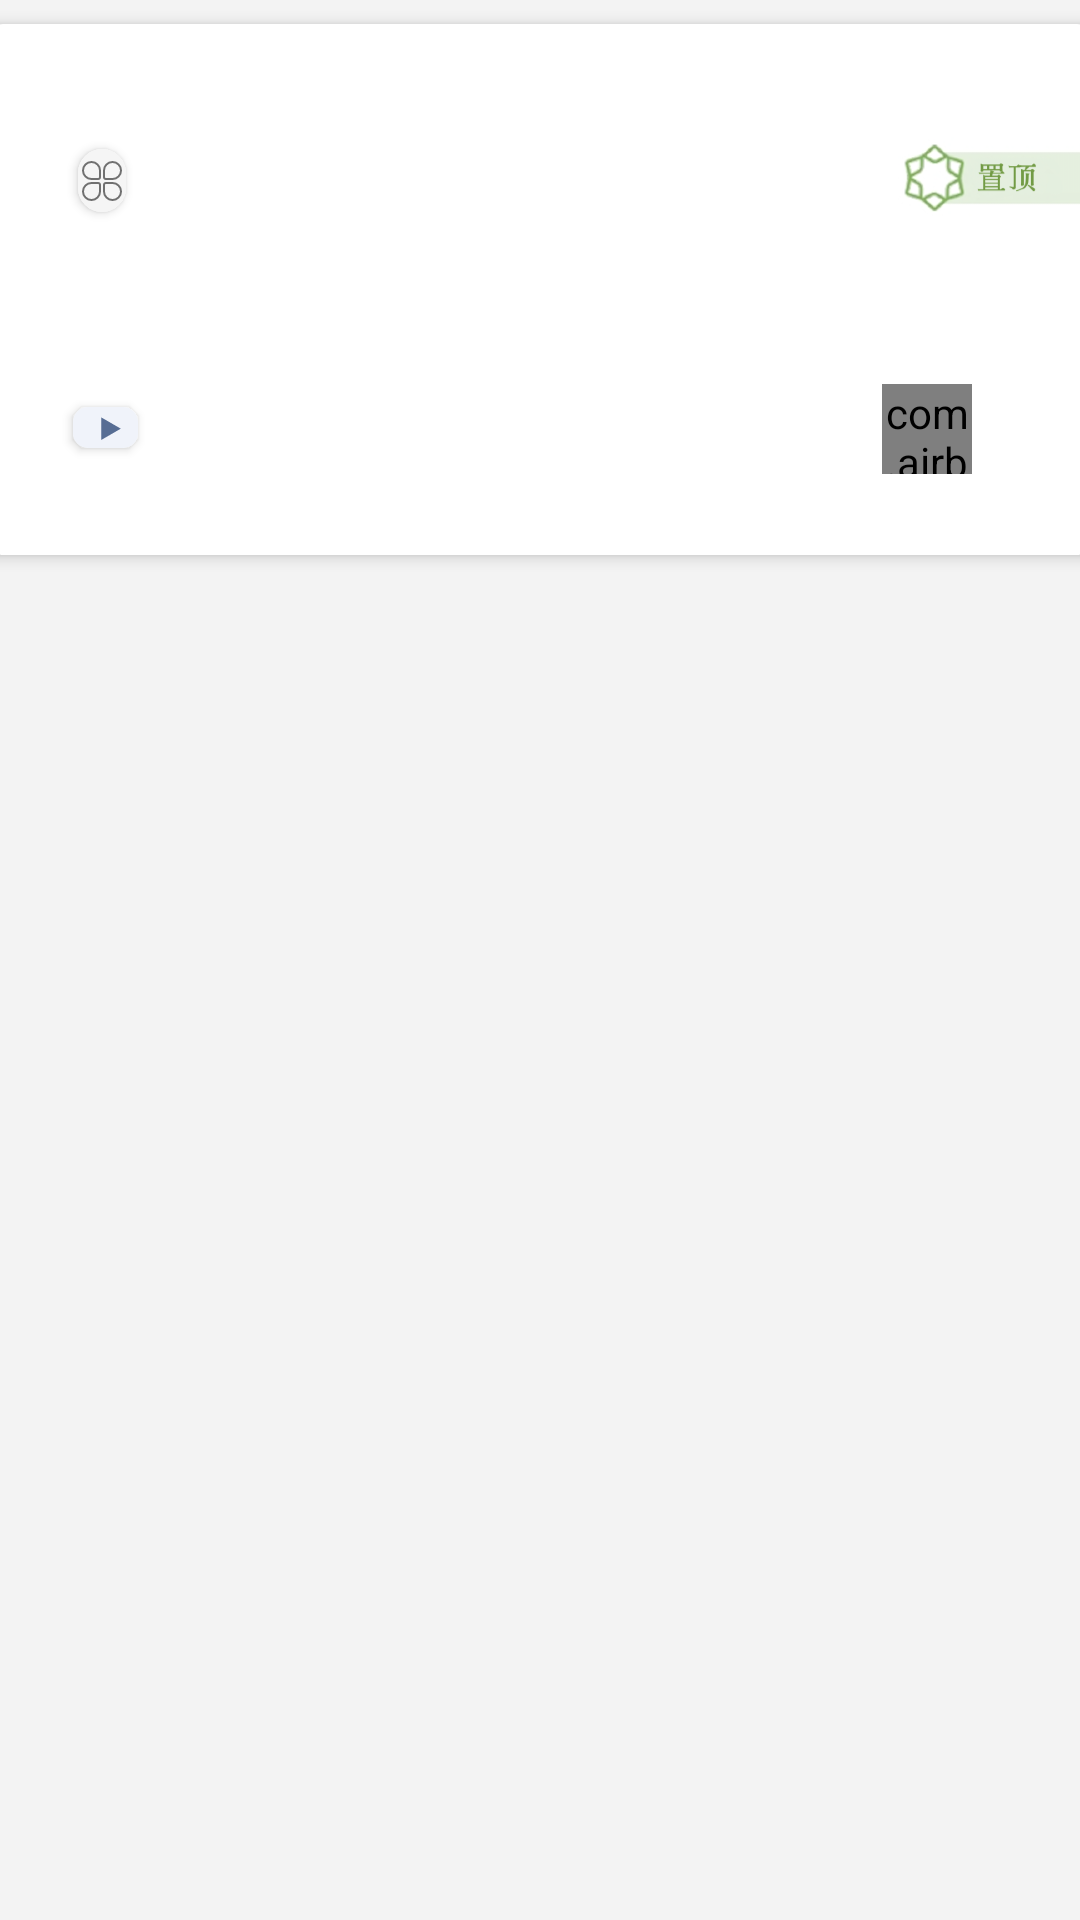

Icon bounding boxes for this 1080 × 1920 phone screenshot, format bbox=[x1, y1, x2, y2]:
fenlei: bbox=[82, 161, 122, 201]
